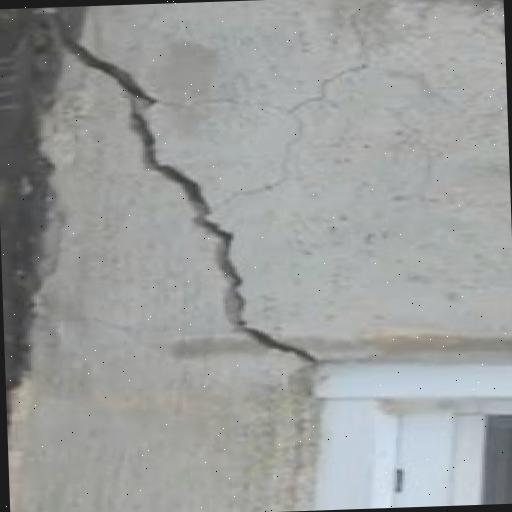spalling: (38, 15, 325, 369)
